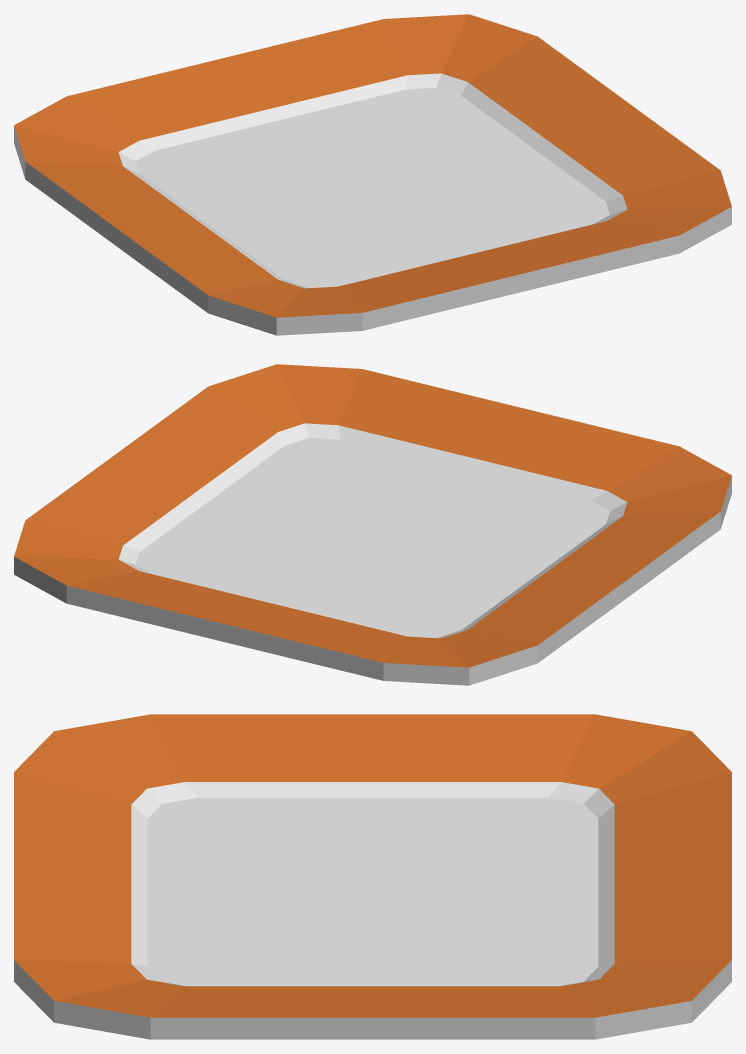
Rendered from R_Plate_Dish_3.fbx.
3 renders of one model, top to bottom at view 1: azimuth 30°, elevation 25°; view 2: azimuth 150°, elevation 25°; view 3: azimuth 270°, elevation 25°, orthographic. The views are drawn at different scales.
Visible parts, largest first — view 1: R_Plate_Dish_3; view 2: R_Plate_Dish_3; view 3: R_Plate_Dish_3.
Part boxes in pixels (bbox=[...]): R_Plate_Dish_3: bbox=[14, 14, 731, 335]; R_Plate_Dish_3: bbox=[14, 364, 731, 685]; R_Plate_Dish_3: bbox=[14, 714, 731, 1039].
Size of the model in its own units: 200 by 200 by 16.68.
